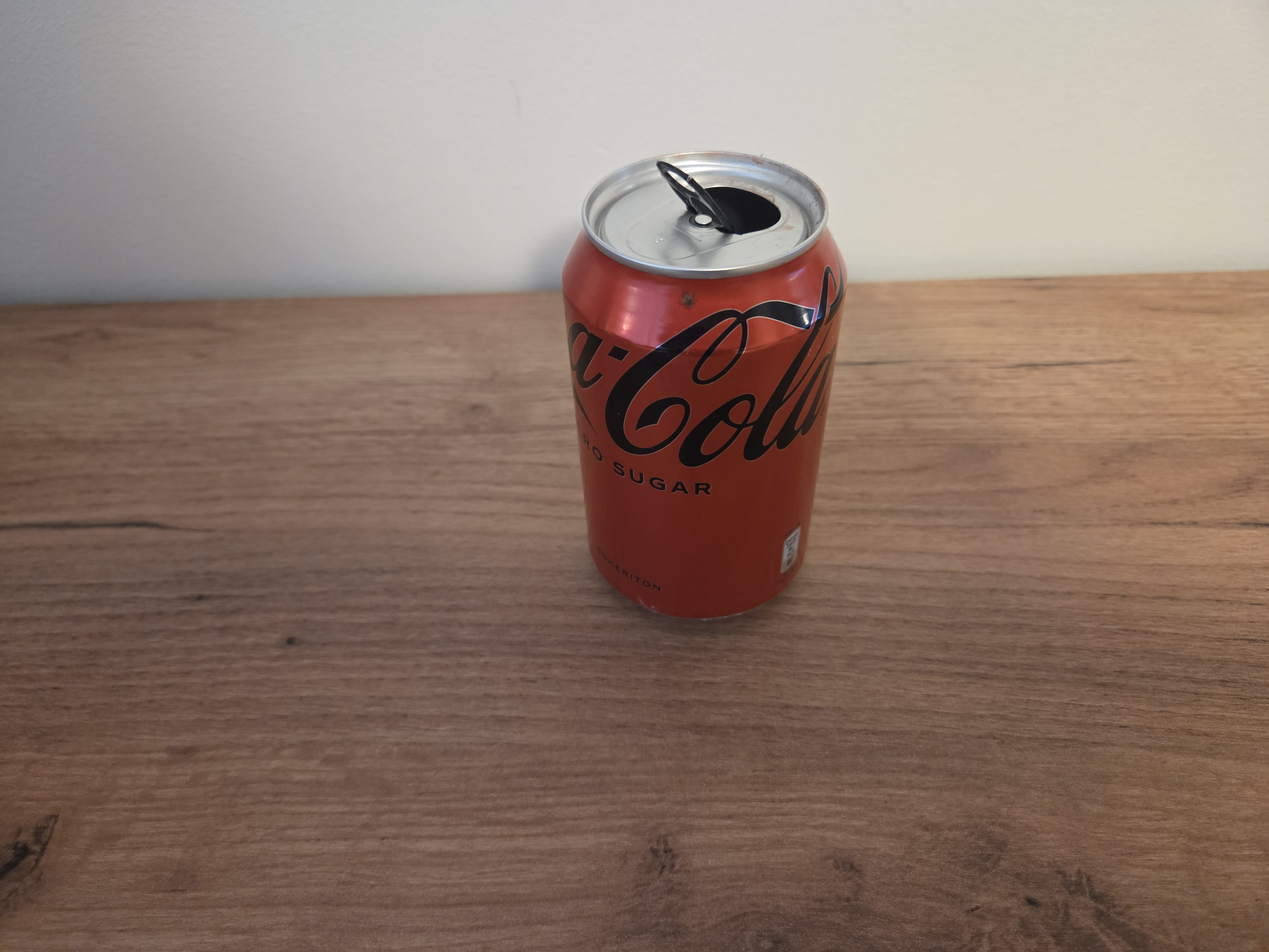Pantburk: (563, 150, 852, 618)
